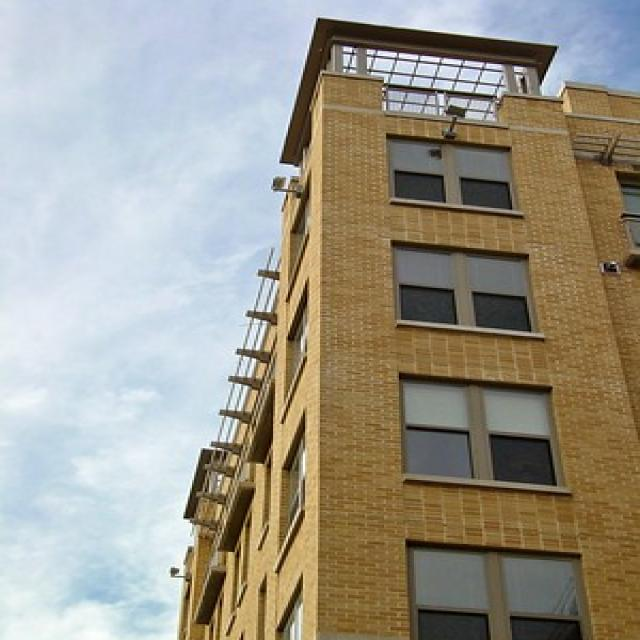building: (173, 11, 640, 640)
